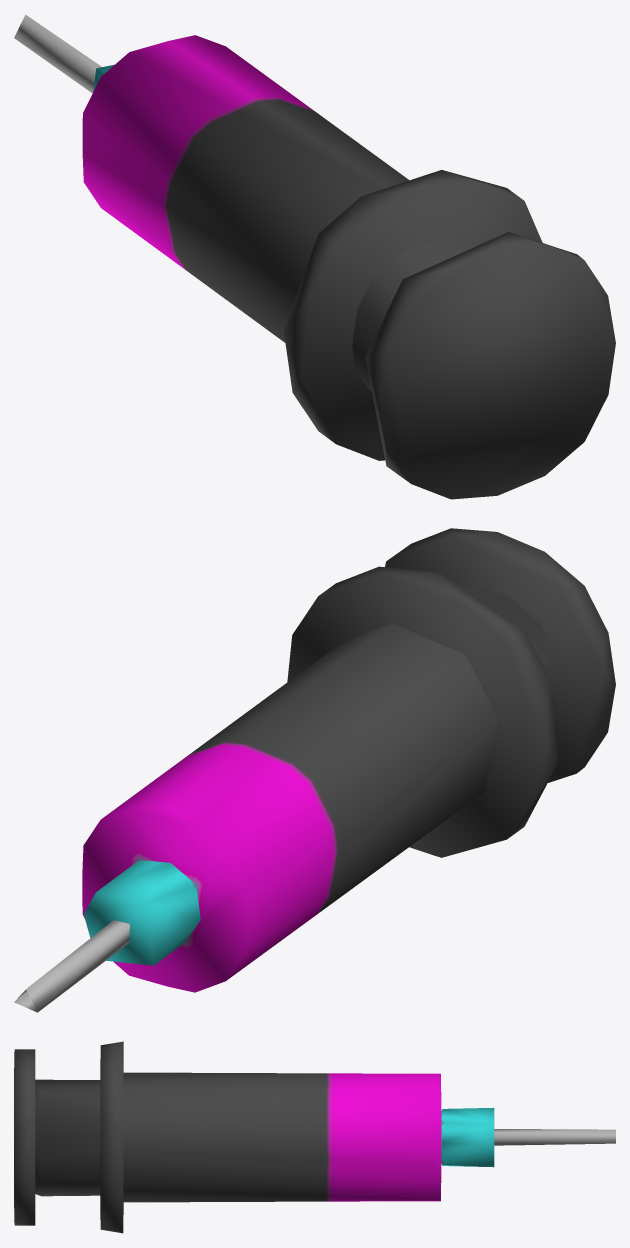
Rendered from syringe.fbx.
The picture shows the model from 3 angles, top to bottom: view 1: azimuth 30°, elevation 25°; view 2: azimuth 150°, elevation 25°; view 3: azimuth 270°, elevation 25°; orthographic projection. The views are drawn at different scales.
Visible parts, largest first — view 1: Cube, Cube.001; view 2: Cube, Cube.001; view 3: Cube, Cube.001.
Boxes of the visible parts, x1,y1,x2,y2 form: Cube: (82,35,615,499); Cube.001: (14,14,101,93); Cube: (82,528,615,992); Cube.001: (14,920,129,1012); Cube: (14,1041,494,1233); Cube.001: (494,1129,615,1145).
Bounding box in the file's own units: 0.3208 × 0.3207 × 1.02.
